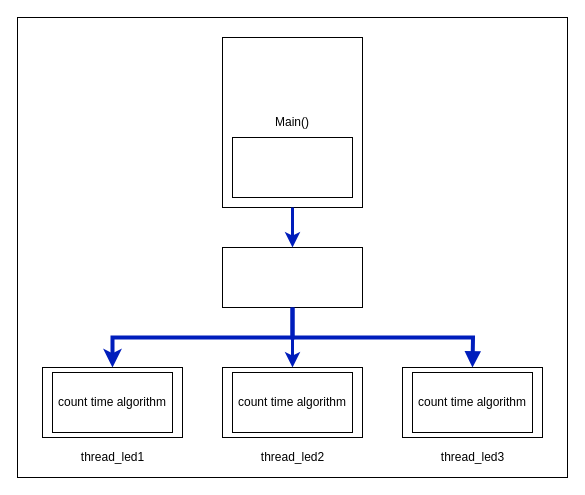
Image size: 585x495. Some labels were removed from this diagram. Each missing label, with the centre of its shape:
setup led: pixel 292 167
tx_application_define(): pixel 292 277
